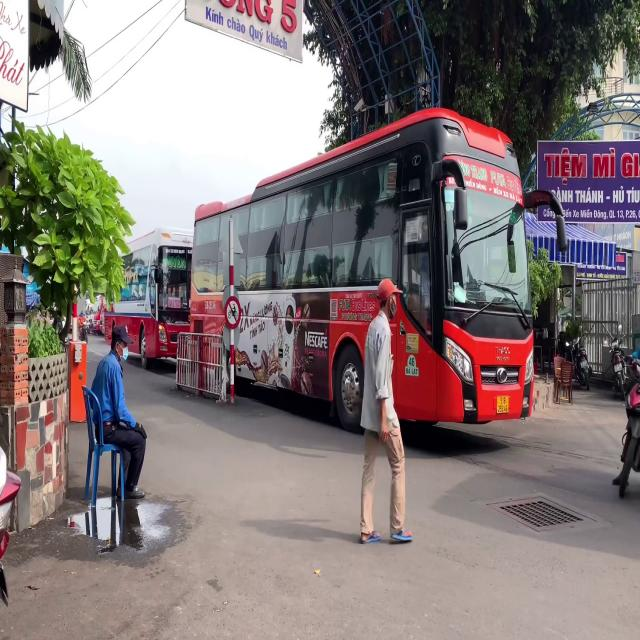bien_vang: (496, 396, 509, 413)
